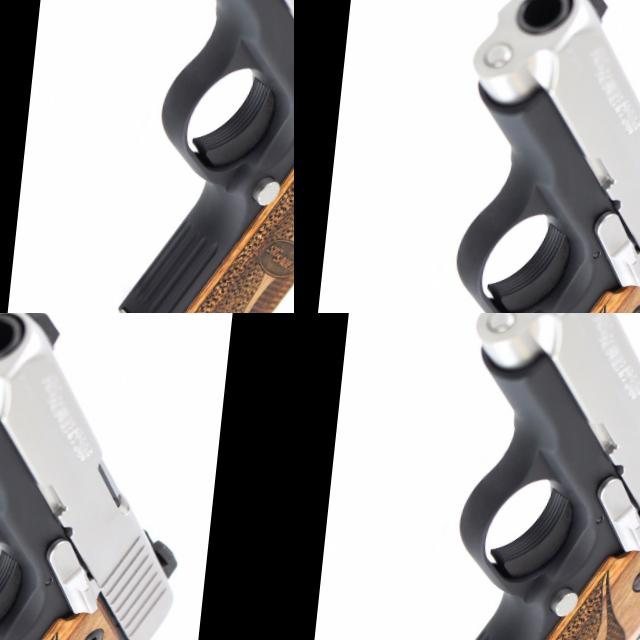handgun: (407, 313, 640, 640), (510, 0, 640, 292), (0, 517, 122, 640)
